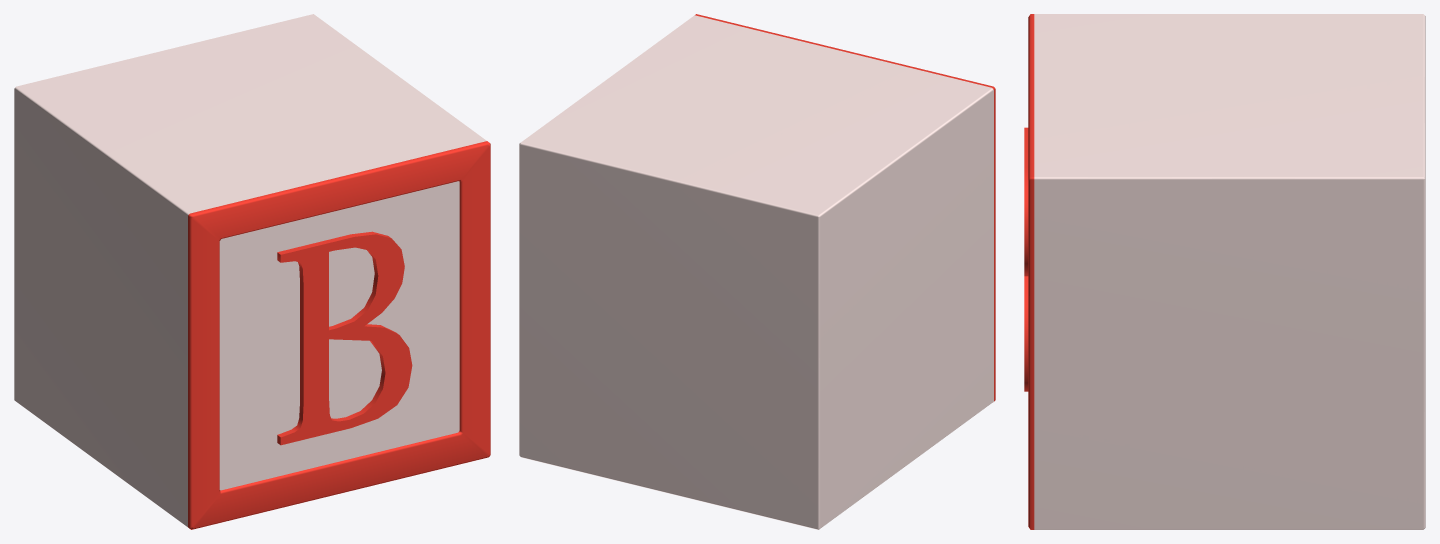
File: Store_9_Toy_Cube_B.glb
3 views of the same model, side by side, from view 1: azimuth 30°, elevation 25°; view 2: azimuth 150°, elevation 25°; view 3: azimuth 270°, elevation 25° (orthographic). The views are drawn at different scales.
Parts seen in each view (by area): view 1: Store_9_Toy_Cube_B; view 2: Store_9_Toy_Cube_B; view 3: Store_9_Toy_Cube_B.
Boxes of the visible parts, bbox=[...] form: Store_9_Toy_Cube_B: bbox=[14, 14, 490, 529]; Store_9_Toy_Cube_B: bbox=[519, 14, 995, 529]; Store_9_Toy_Cube_B: bbox=[1024, 14, 1425, 529].
Bounding box in the file's own units: 1.13 × 1.13 × 1.16.
1 material, 1 textured.
